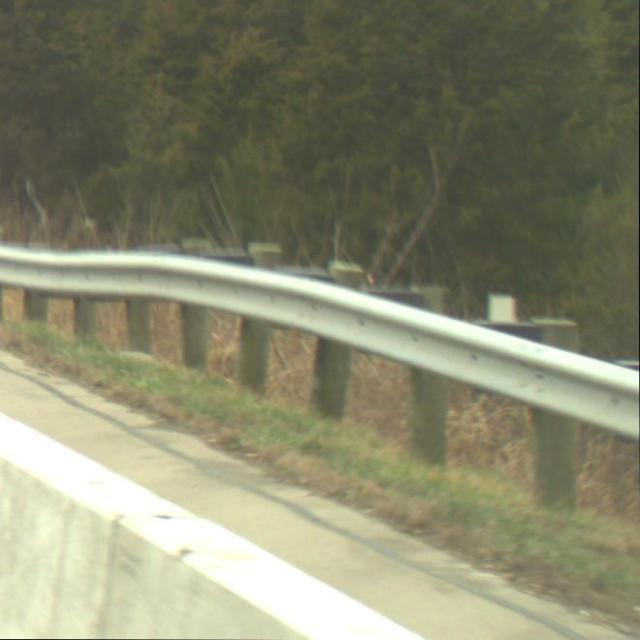Guard rail: (0, 229, 640, 533)
